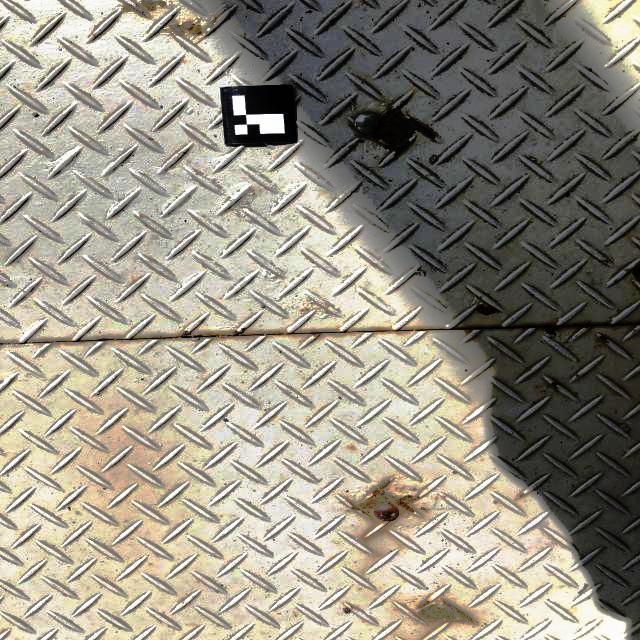Corrosion: (344, 476, 429, 532), (362, 105, 438, 159), (410, 598, 479, 625), (167, 16, 217, 38), (121, 0, 170, 19), (204, 327, 250, 338), (300, 301, 333, 315), (475, 302, 500, 316), (539, 324, 565, 336), (172, 330, 204, 338), (631, 261, 640, 283), (94, 336, 123, 341), (598, 335, 613, 344), (305, 332, 323, 338), (550, 381, 560, 389), (517, 492, 526, 497), (329, 19, 336, 24), (91, 33, 97, 37), (139, 215, 144, 219), (350, 606, 354, 609), (182, 152, 185, 154)
